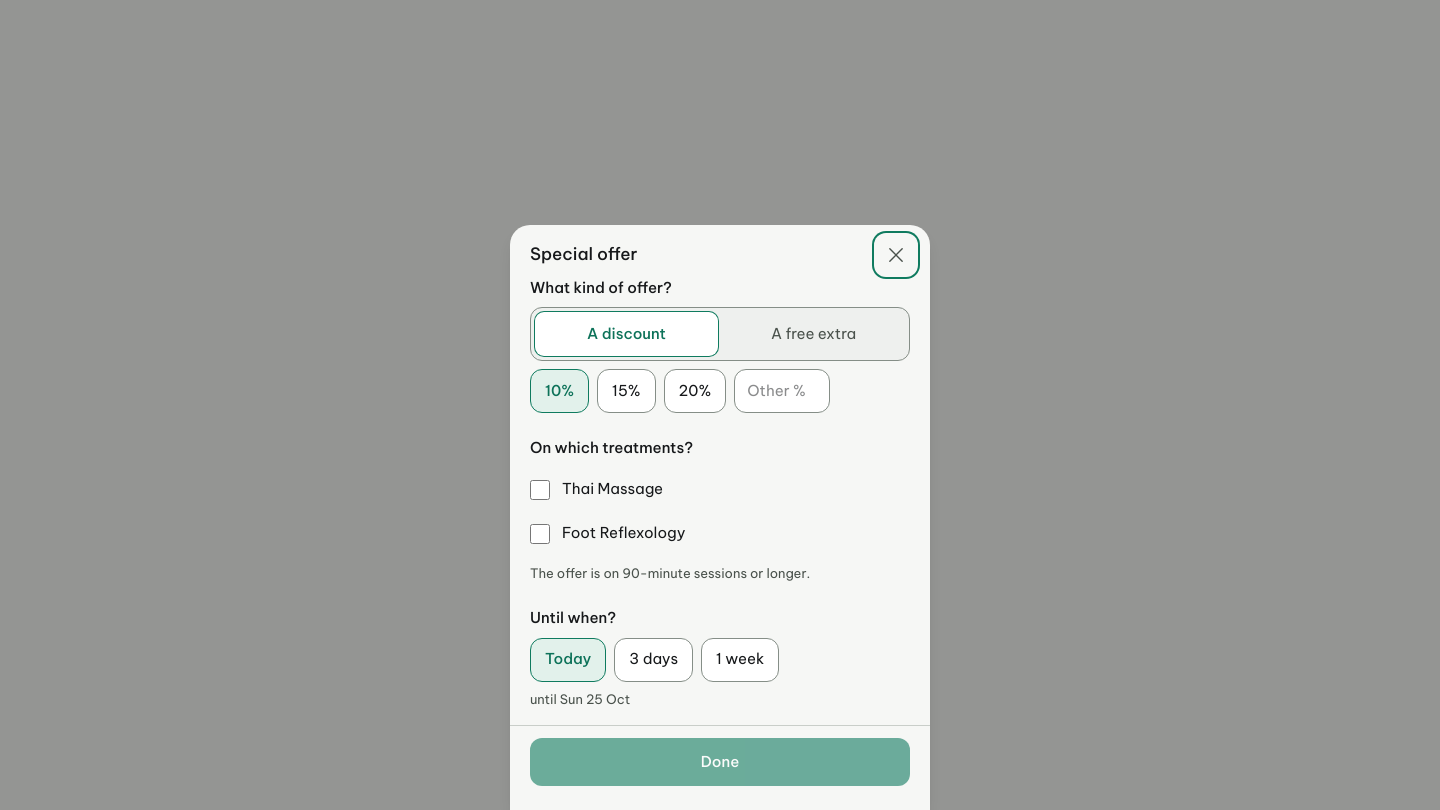
Test case: the offer sheet › 3 days shows the date two days on
Click the button "3 days".
click(654, 660)  # box [614,638,693,682]
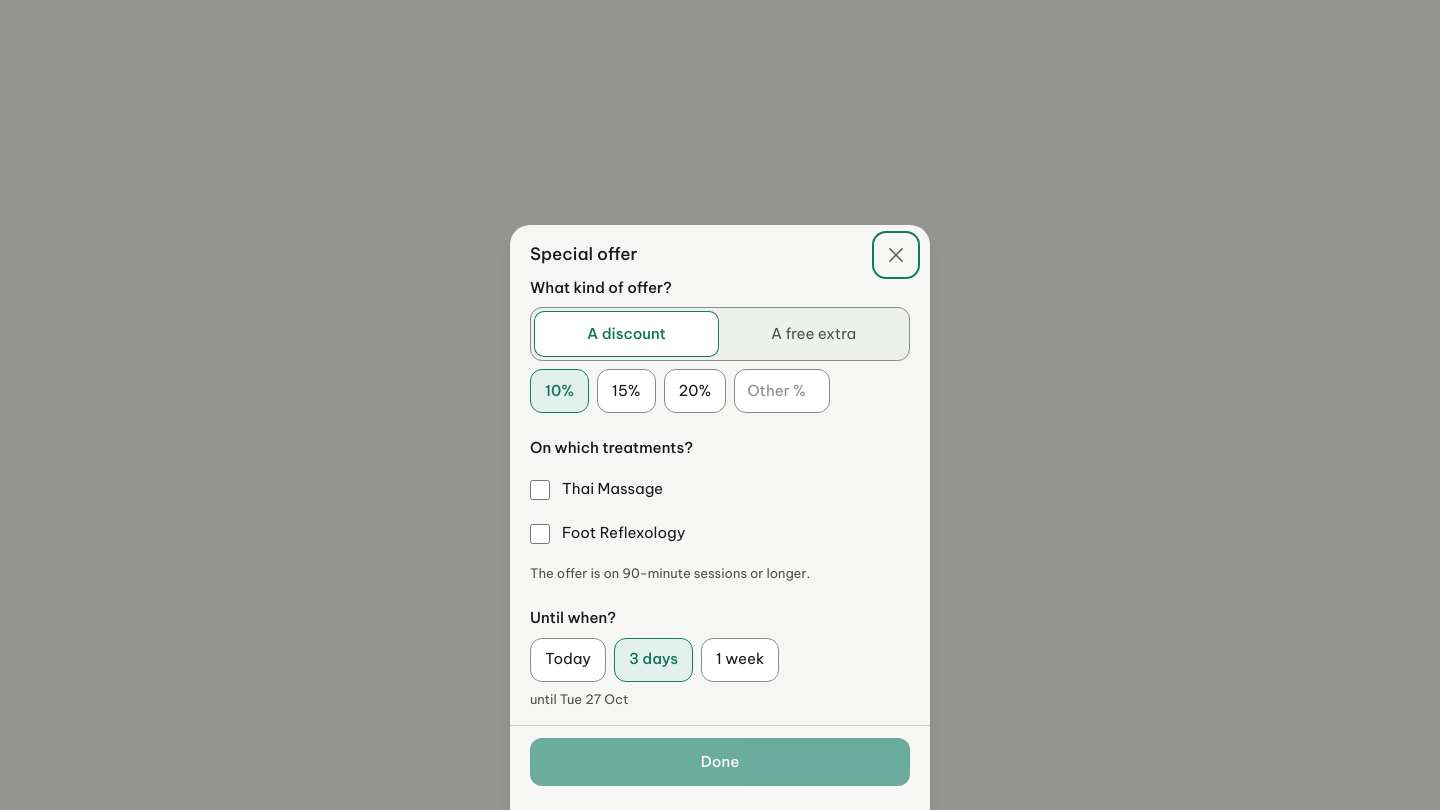
Now the text "until Tue 27 Oct" is shown, box [530,690,628,706]
